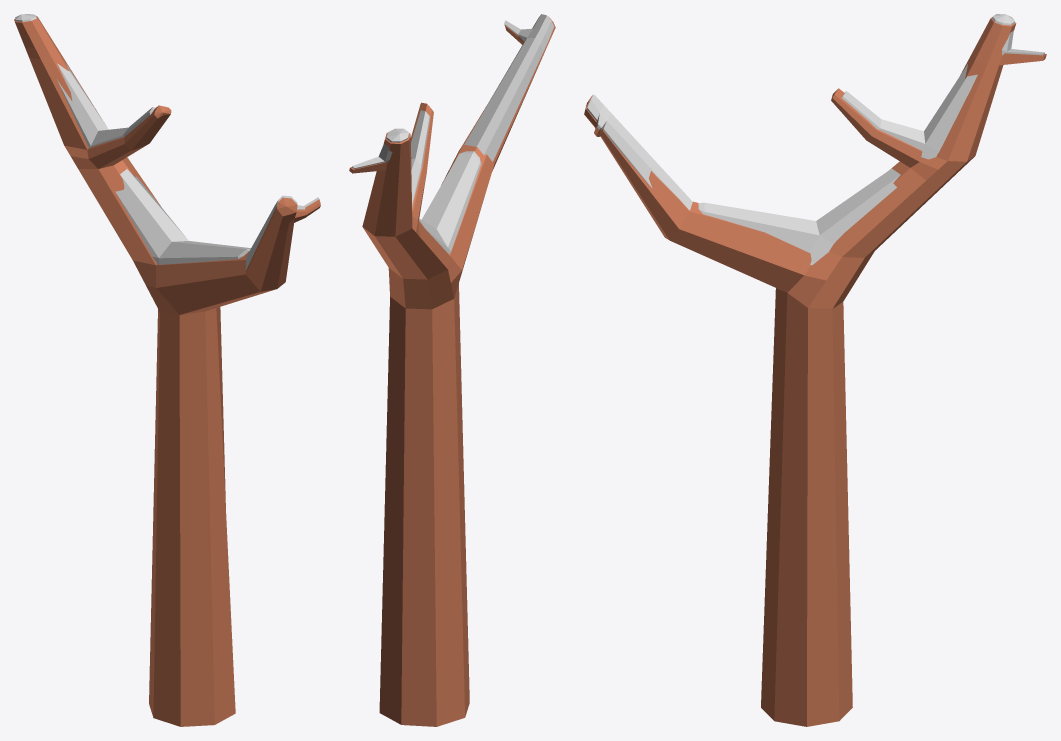
The model's file is Tree_03_winter_mat.fbx.
3 views of the same model, side by side, from view 1: azimuth 30°, elevation 25°; view 2: azimuth 150°, elevation 25°; view 3: azimuth 270°, elevation 25° (orthographic). The views are drawn at different scales.
Visible parts, largest first — view 1: Tree_03_winter_mat; view 2: Tree_03_winter_mat; view 3: Tree_03_winter_mat.
Boxes of the visible parts, box(x1,y1,x2,y2) form: Tree_03_winter_mat: box(14, 14, 320, 726); Tree_03_winter_mat: box(349, 14, 555, 726); Tree_03_winter_mat: box(584, 14, 1046, 726).
Size of the model in its own units: 1.1 by 5.62 by 3.59.
